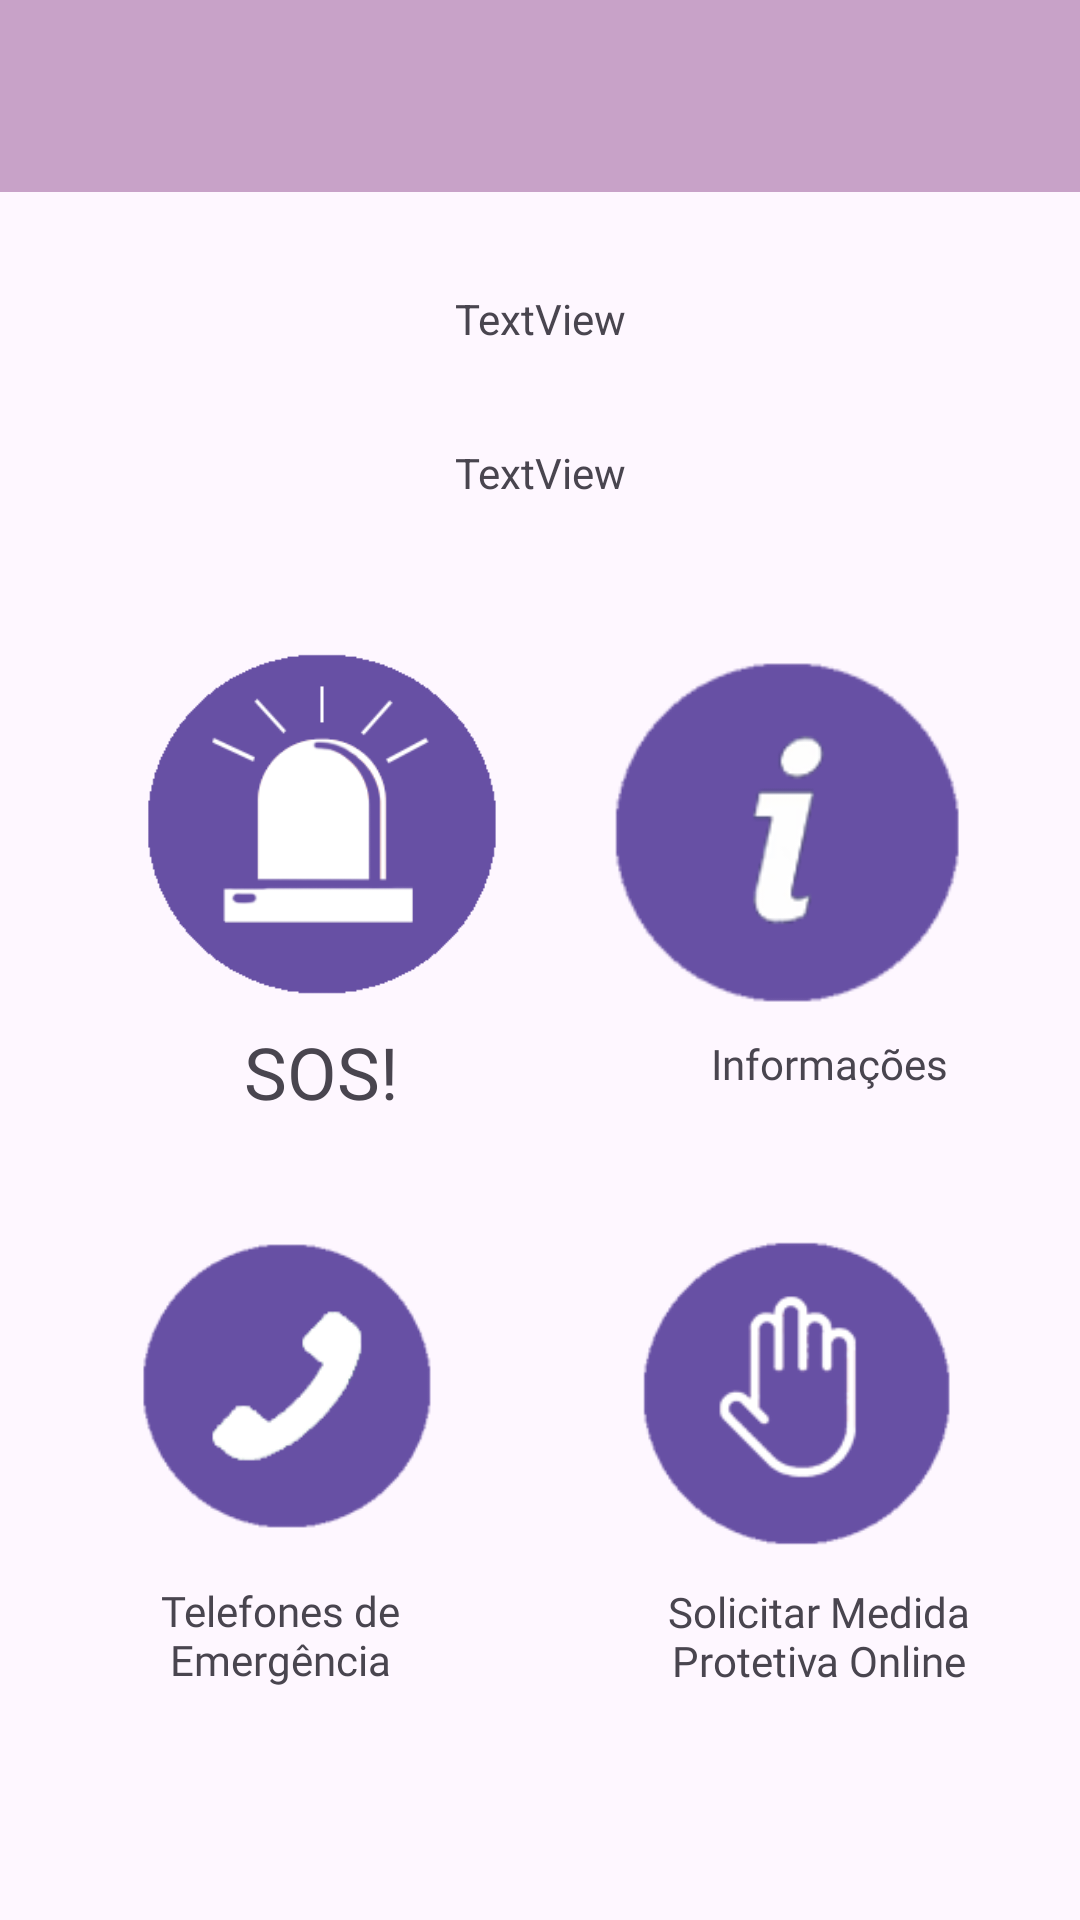

Where to tap for icons on this 1080×1920 app screen, as [x,y]:
sirene: [322,824]
stop: [796,1393]
